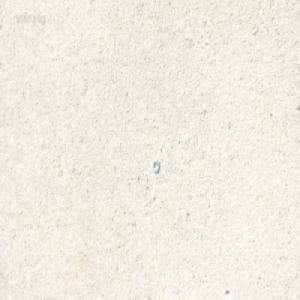Washer: (152, 158, 160, 173)
